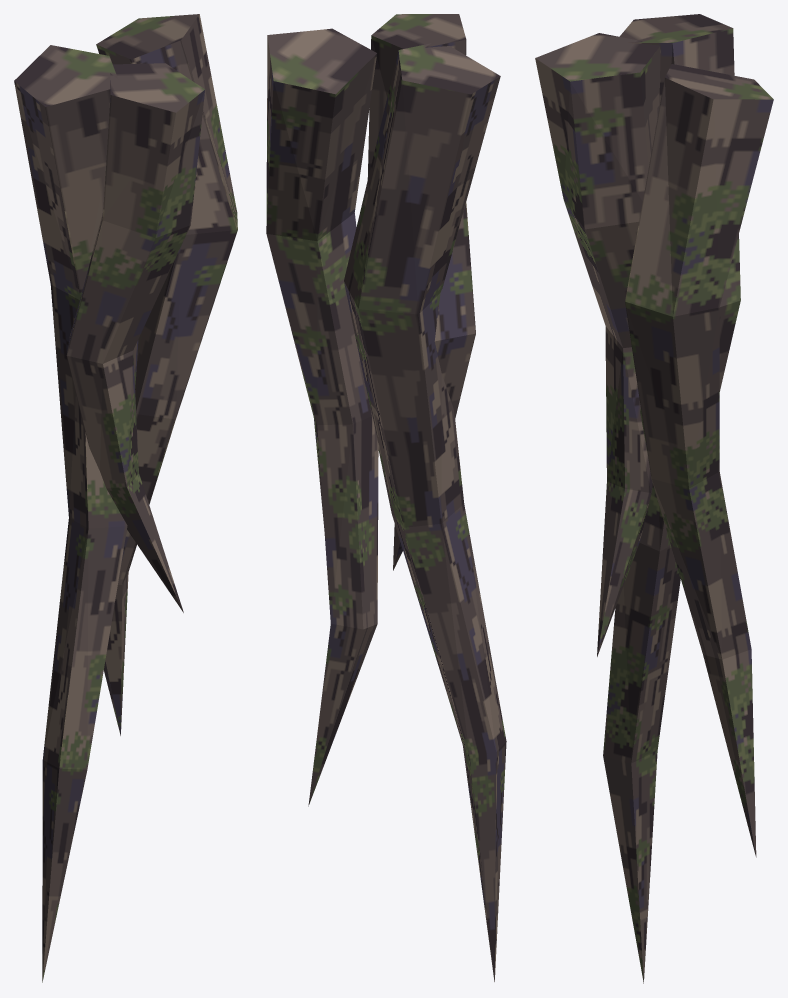
Rendered from SM_CV_HangingRootsB.fbx.
3 renders of one model, left to right at view 1: azimuth 30°, elevation 25°; view 2: azimuth 150°, elevation 25°; view 3: azimuth 270°, elevation 25°, orthographic. The views are drawn at different scales.
Parts seen in each view (by area): view 1: CV_HangingRootsB_Roots; view 2: CV_HangingRootsB_Roots; view 3: CV_HangingRootsB_Roots.
Part boxes in pixels (x1,y1,x2,y2): CV_HangingRootsB_Roots: [14, 14, 237, 982]; CV_HangingRootsB_Roots: [266, 14, 506, 981]; CV_HangingRootsB_Roots: [535, 14, 773, 983].
Bounding box in the file's own units: 0.3096 × 1.26 × 0.2774.
